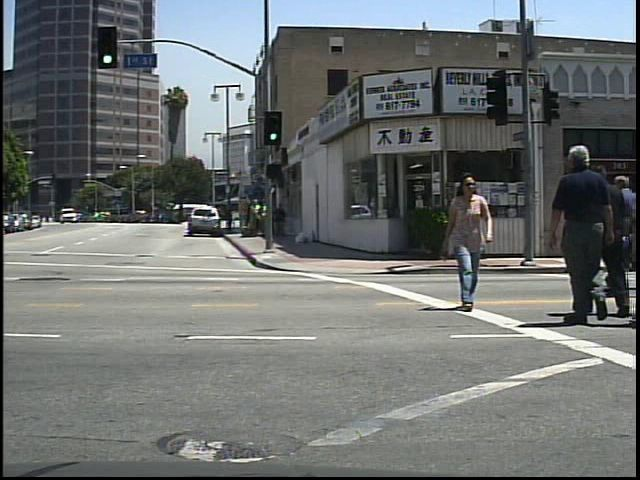person: (549, 141, 622, 330), (442, 168, 496, 313)
